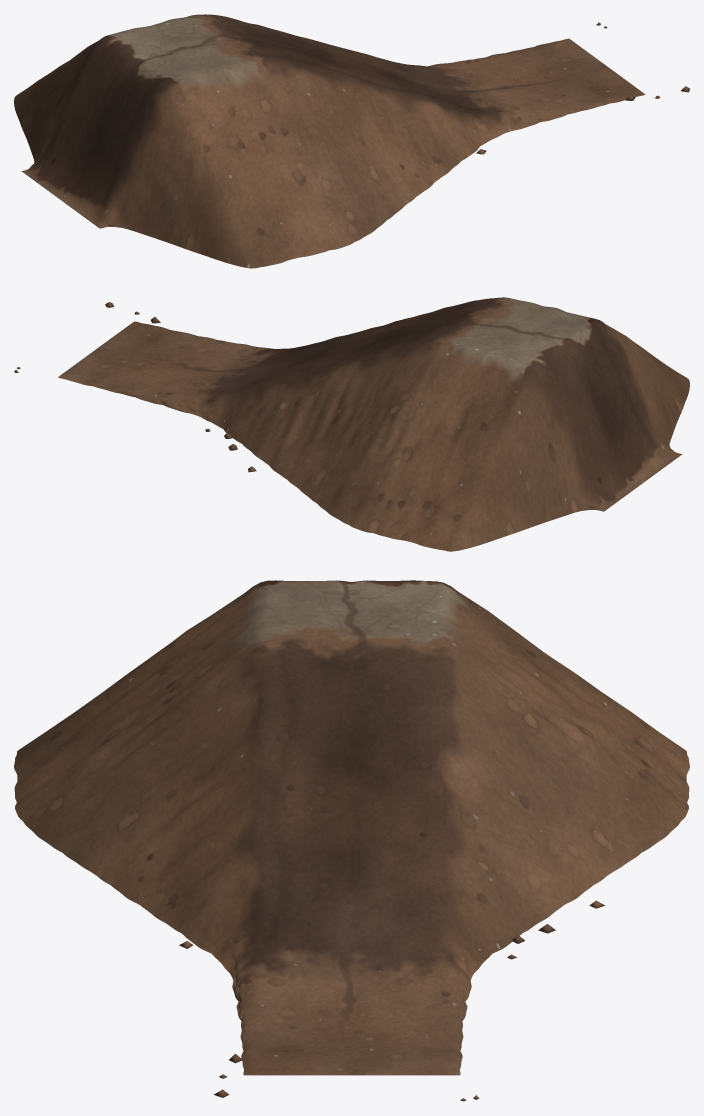
File: DR_Prop_JumpLanding.fbx
3 renders of one model, top to bottom at view 1: azimuth 30°, elevation 25°; view 2: azimuth 150°, elevation 25°; view 3: azimuth 270°, elevation 25°, orthographic. The views are drawn at different scales.
Visible parts, largest first — view 1: DR_Prop_JumpLanding; view 2: DR_Prop_JumpLanding; view 3: DR_Prop_JumpLanding.
Boxes of the visible parts, box(x1,y1,x2,y2) form: DR_Prop_JumpLanding: box(14, 14, 689, 268); DR_Prop_JumpLanding: box(14, 297, 689, 551); DR_Prop_JumpLanding: box(14, 580, 689, 1101).
Bounding box in the file's own units: 4.02 × 0.8043 × 2.85.
1 material, 1 textured.
